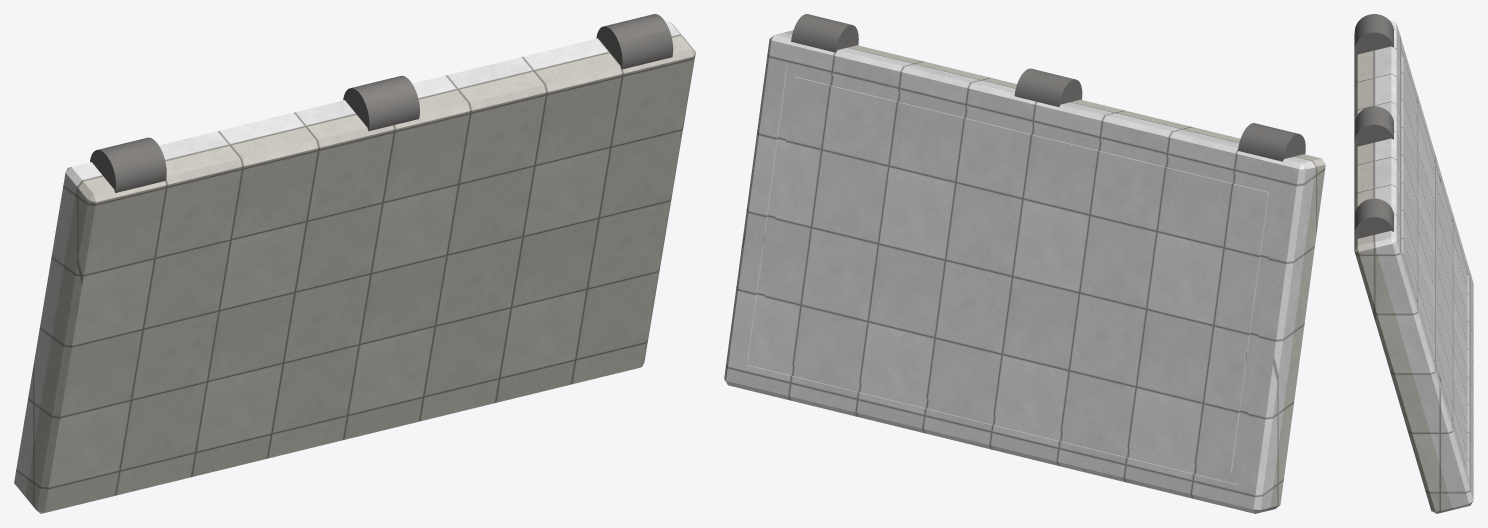
The model's file is ax_aero_26_csbf_body_flap_mk2_defl_pos.glb.
3 renders of one model, left to right at view 1: azimuth 30°, elevation 25°; view 2: azimuth 150°, elevation 25°; view 3: azimuth 270°, elevation 25°, orthographic. The views are drawn at different scales.
Parts seen in each view (by area): view 1: flap_top, flap_underside, hinge_fittings; view 2: flap_underside, hinge_fittings, flap_top; view 3: flap_underside, flap_top, hinge_fittings.
Boxes of the visible parts, x1=… form: flap_top: x1=25, y1=35, x2=695, y2=513; flap_underside: x1=14, y1=21, x2=683, y2=496; hinge_fittings: x1=90, y1=14, x2=673, y2=192; flap_underside: x1=724, y1=32, x2=1315, y2=513; hinge_fittings: x1=791, y1=14, x2=1305, y2=161; flap_top: x1=785, y1=30, x2=1325, y2=511; flap_underside: x1=1374, y1=20, x2=1473, y2=509; flap_top: x1=1354, y1=33, x2=1453, y2=513; hinge_fittings: x1=1354, y1=14, x2=1393, y2=240.
Size of the model in its own units: 1.2 by 0.7315 by 0.2726.
3 materials, 3 textured.
